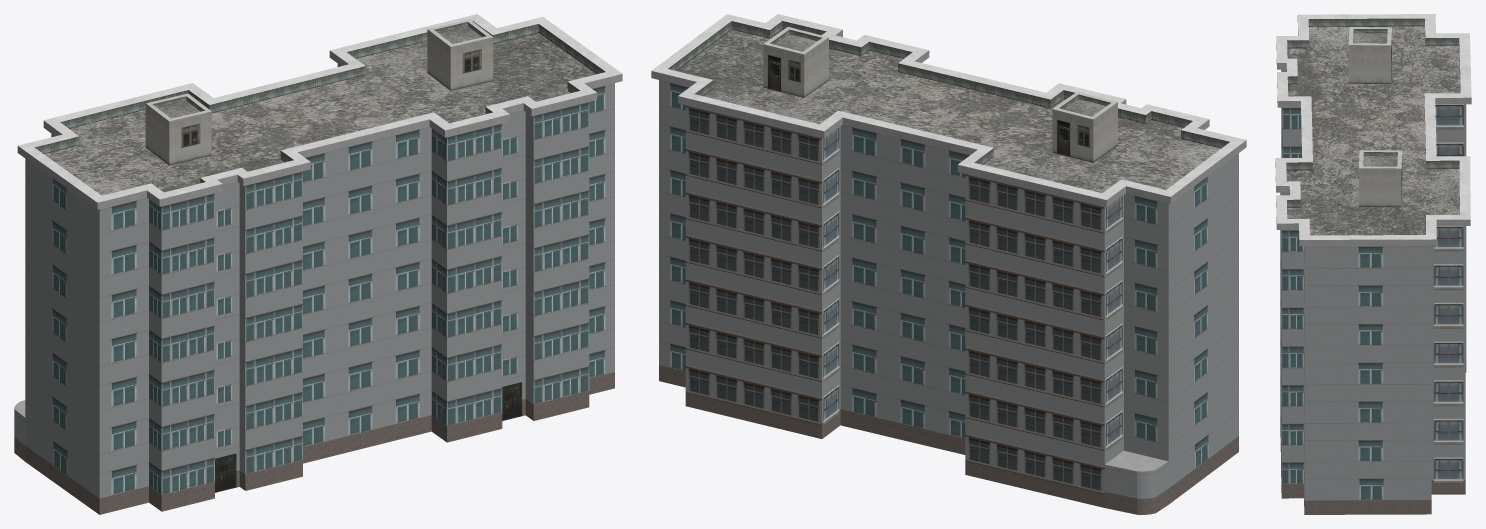
3 renders of one model, left to right at view 1: azimuth 30°, elevation 25°; view 2: azimuth 150°, elevation 25°; view 3: azimuth 270°, elevation 25°, orthographic. The views are drawn at different scales.
Parts seen in each view (by area): view 1: jz12; view 2: jz12; view 3: jz12.
Part boxes in pixels (<box>): jz12: <box>14,14,622,514</box>; jz12: <box>651,14,1246,514</box>; jz12: <box>1275,14,1471,514</box>.
Size of the model in its own units: 3761 by 2390 by 1379.
21 materials, 21 textured.
